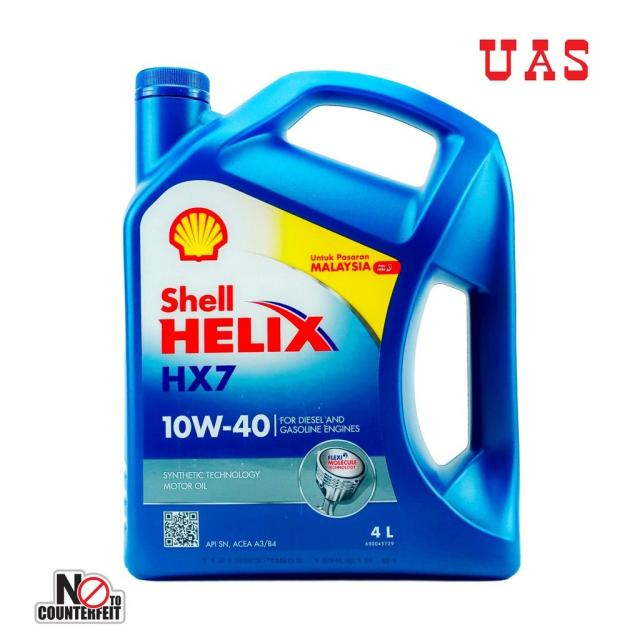motor_oil: (117, 59, 528, 583)
